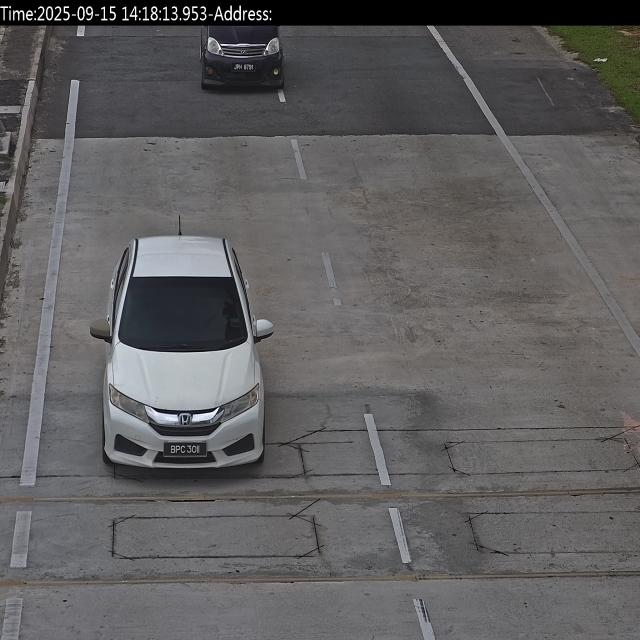front: (164, 435, 212, 467)
